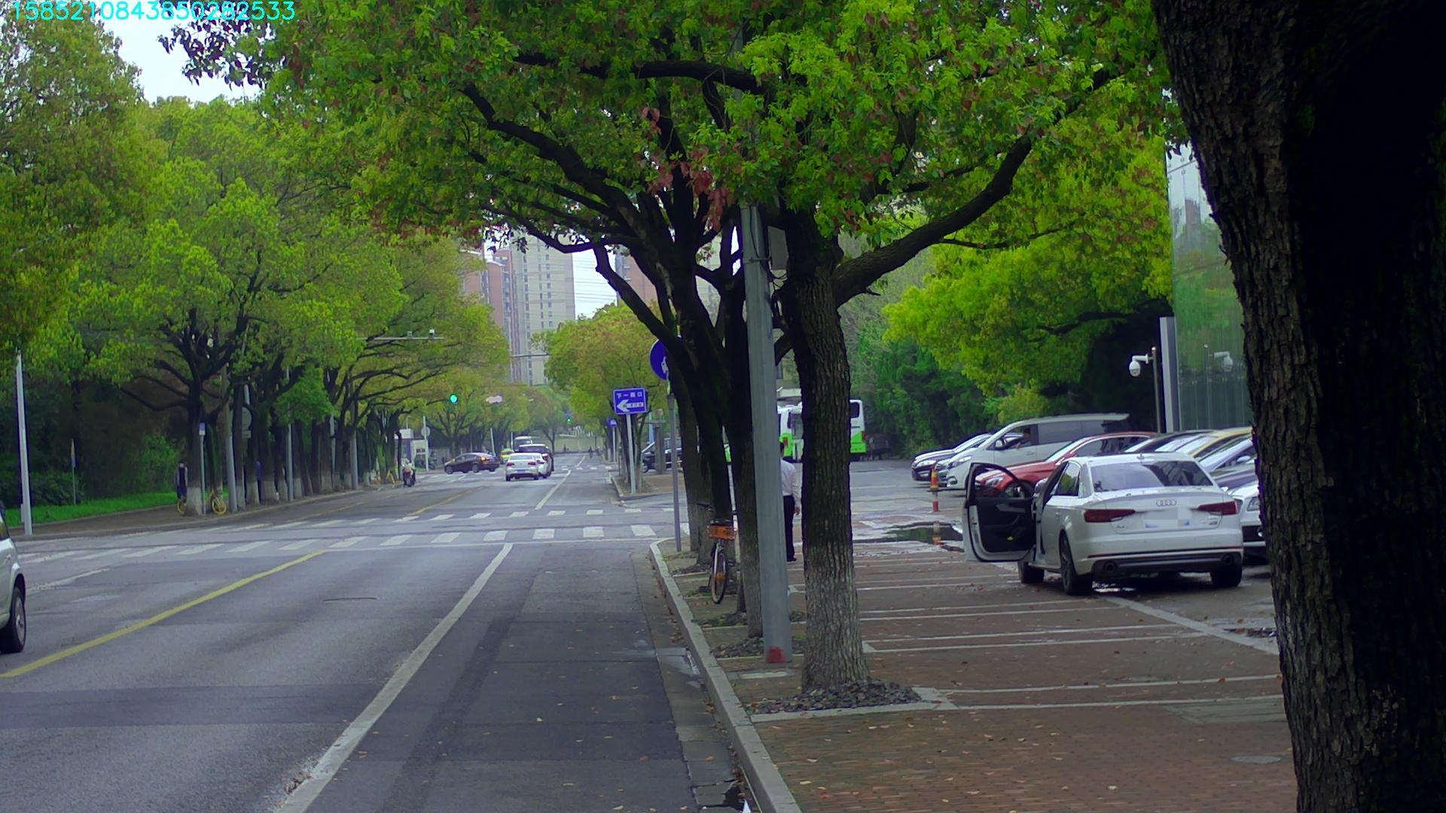green: (449, 392, 458, 404)
